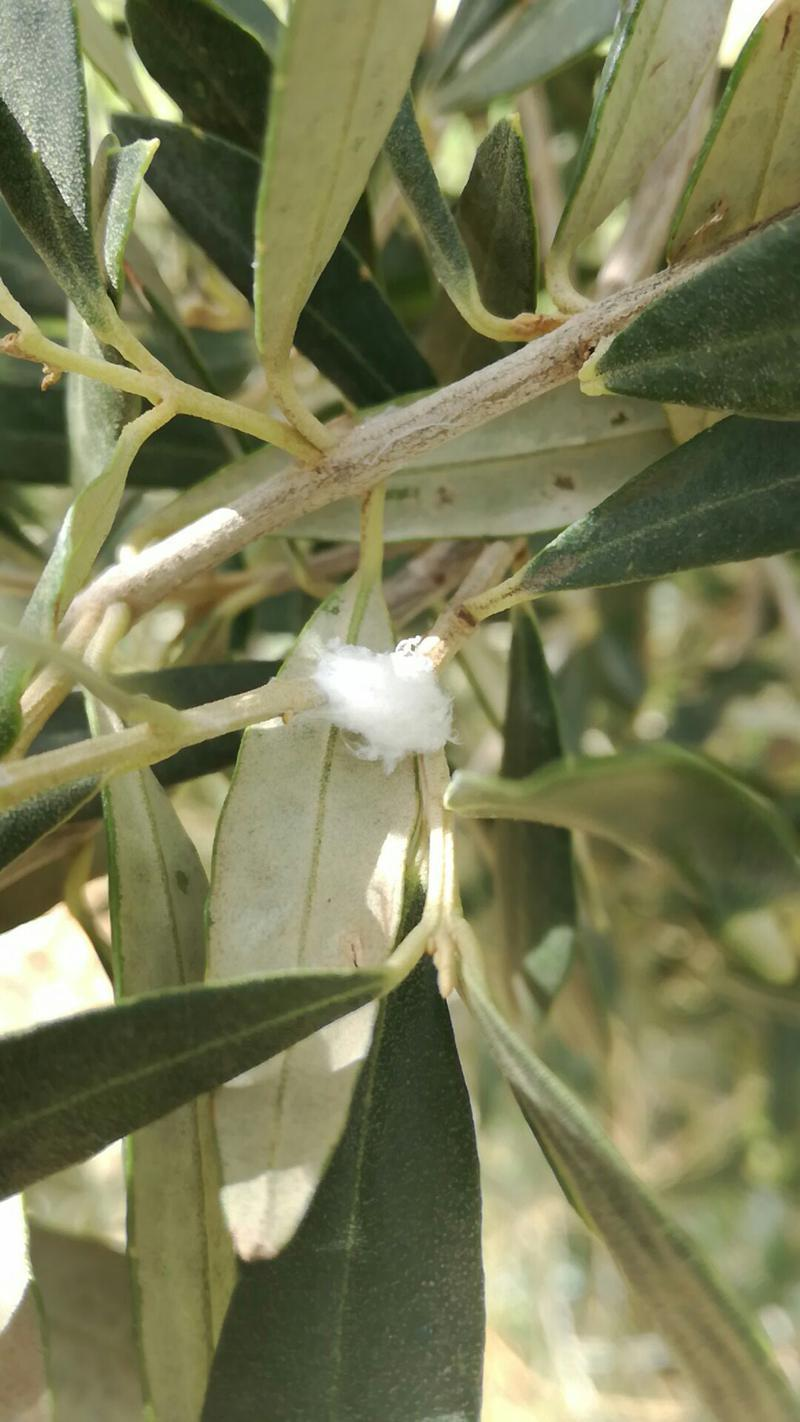Psyllid: (281, 610, 470, 788)
